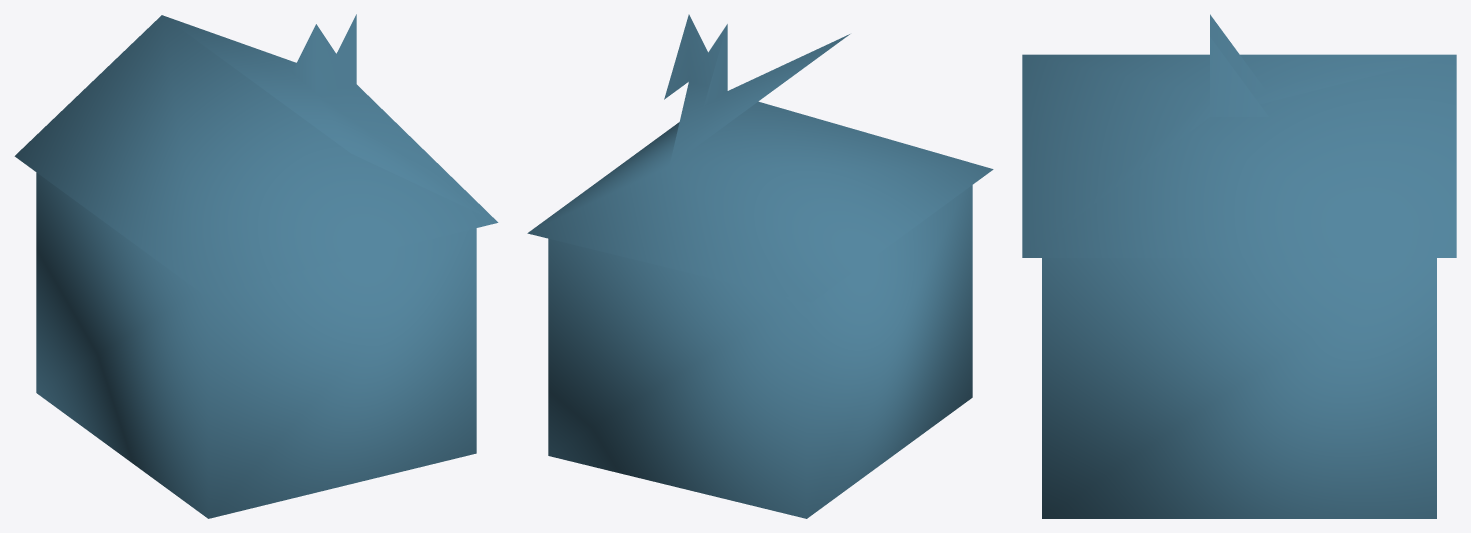
File: waterworks.obj
3 views of the same model, side by side, from view 1: azimuth 30°, elevation 25°; view 2: azimuth 150°, elevation 25°; view 3: azimuth 270°, elevation 25° (orthographic). The views are drawn at different scales.
Parts seen in each view (by area): view 1: building; view 2: building; view 3: building.
Part boxes in pixels (box(x1,y1,x2,y2)): building: box(14, 14, 498, 518); building: box(527, 14, 993, 518); building: box(1022, 14, 1456, 518).
Bounding box in the file's own units: 1.98 × 2.55 × 2.2.
